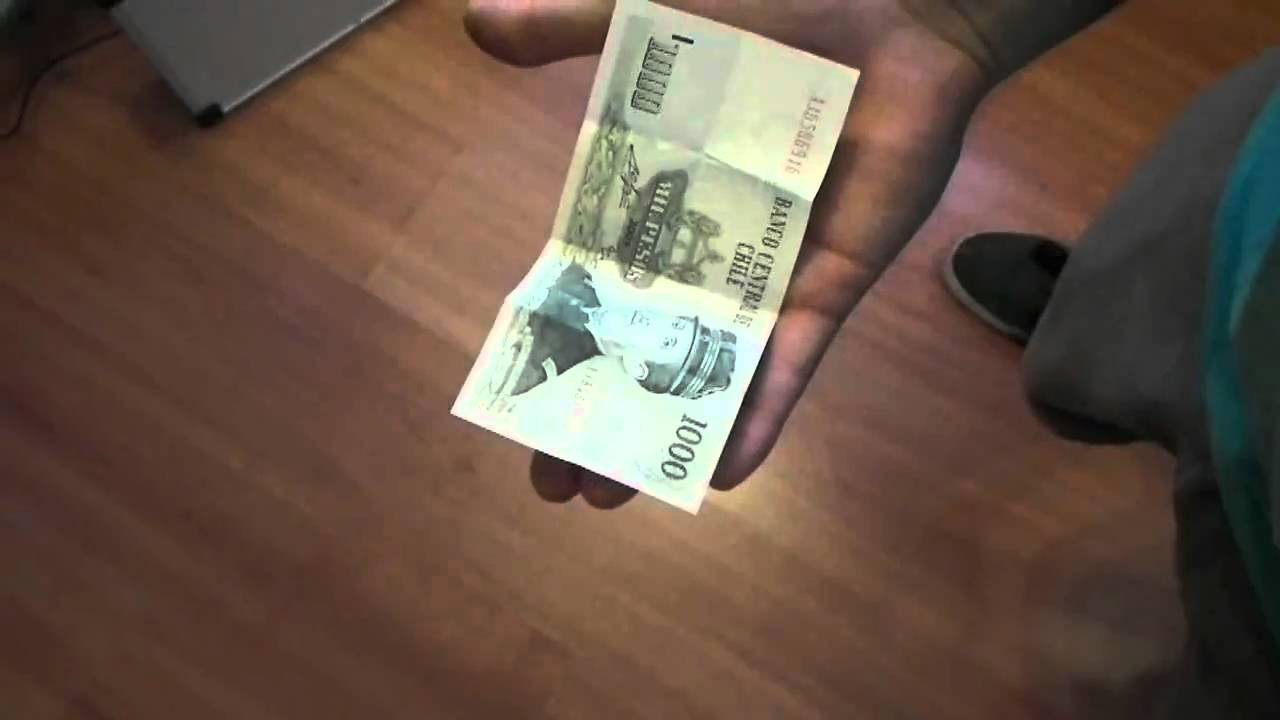billete: (446, 1, 869, 517)
